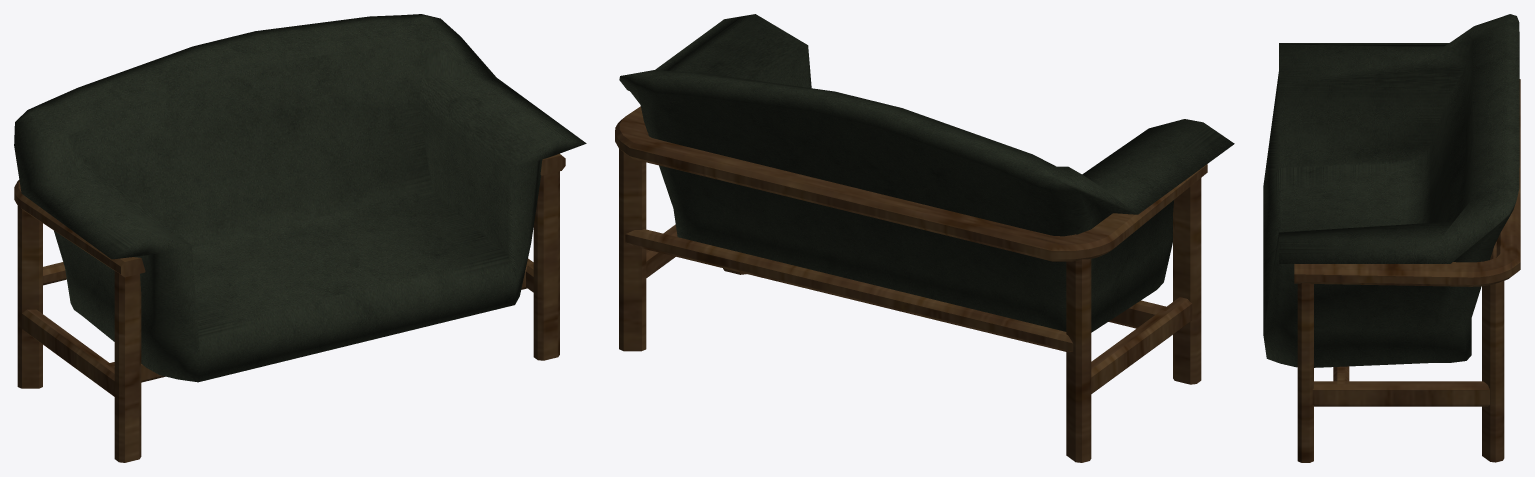
File: LC_3005_ChairA_LOD1.FBX
3 renders of one model, left to right at view 1: azimuth 30°, elevation 25°; view 2: azimuth 150°, elevation 25°; view 3: azimuth 270°, elevation 25°, orthographic. The views are drawn at different scales.
Visible parts, largest first — view 1: LC_3005_ChairA_LOD1; view 2: LC_3005_ChairA_LOD1; view 3: LC_3005_ChairA_LOD1.
Boxes of the visible parts, x1,y1,x2,y2 form: LC_3005_ChairA_LOD1: (14,14,586,462); LC_3005_ChairA_LOD1: (615,14,1234,462); LC_3005_ChairA_LOD1: (1263,14,1520,462).
Bounding box in the file's own units: 129 × 74.34 × 63.5.
Materials: 1 (1 with a texture image).
